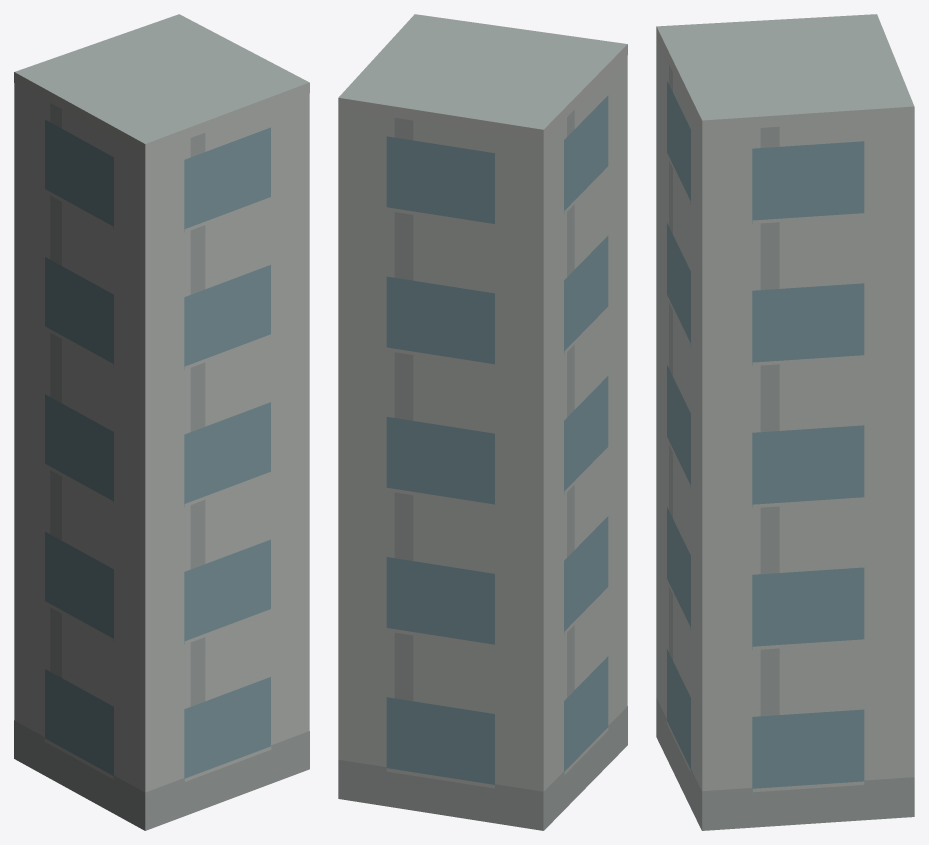
The model's file is survey-upis-32697901.glb.
The picture shows the model from 3 angles, left to right: view 1: azimuth 30°, elevation 25°; view 2: azimuth 150°, elevation 25°; view 3: azimuth 270°, elevation 25°; orthographic projection. The views are drawn at different scales.
Parts seen in each view (by area): view 1: survey-upis-32697901.tmp; view 2: survey-upis-32697901.tmp; view 3: survey-upis-32697901.tmp.
Part boxes in pixels (box(x1,y1,x2,y2)): survey-upis-32697901.tmp: box(14, 14, 309, 830); survey-upis-32697901.tmp: box(338, 14, 627, 830); survey-upis-32697901.tmp: box(656, 14, 914, 830).
Size of the model in its own units: 4.91 by 15.25 by 5.03.
